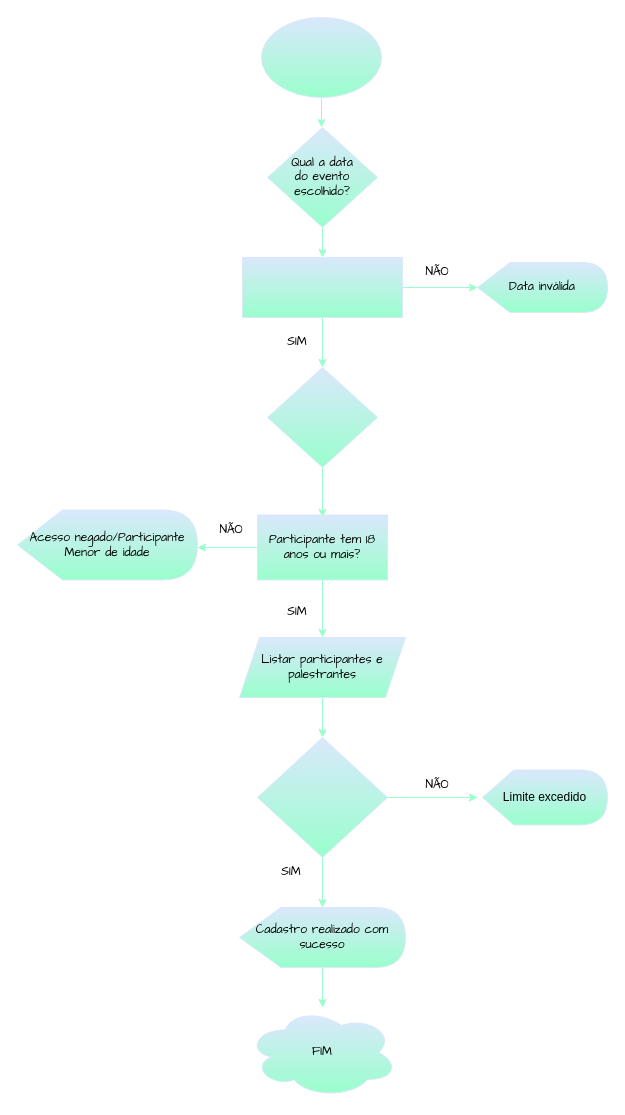
This 625x1115 diagram has some shape labels left out. Here are the shapes that lost their labels. From the top down, the centre of each, then its label:
the point at 321,57: Início
the point at 322,287: A data é posterior ao dia de hoje?
the point at 322,417: Data de nascimento:
the point at 322,797: Quantidade de participantes inferior a 100?
